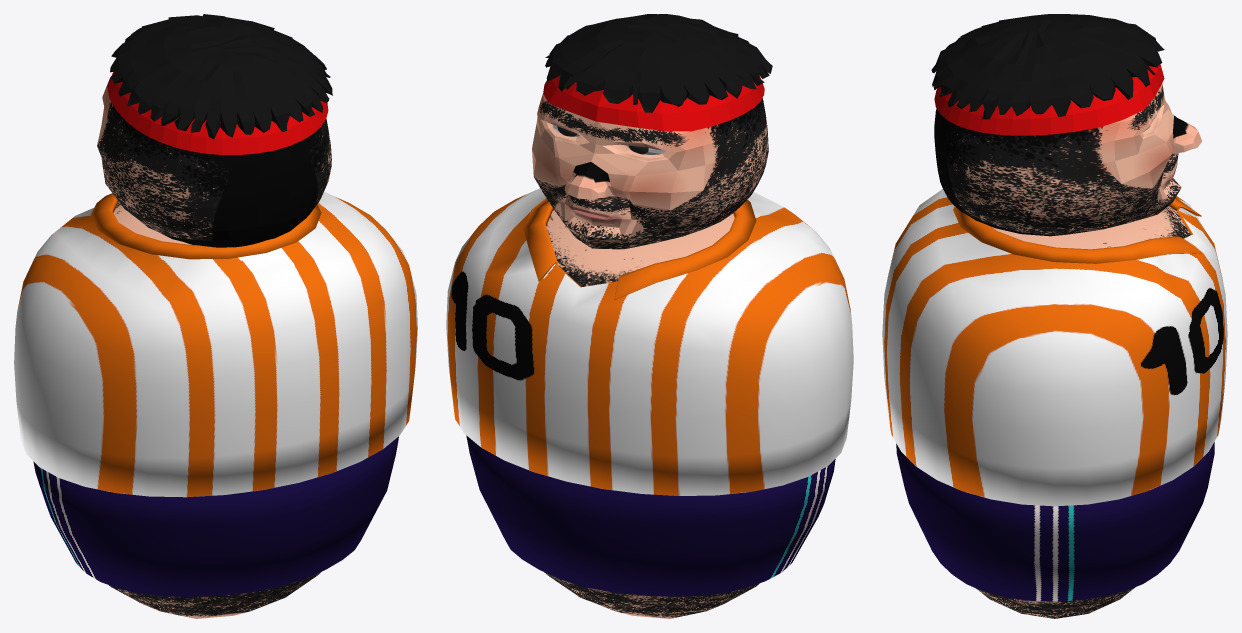
The model's file is recep1.fbx.
3 renders of one model, left to right at view 1: azimuth 30°, elevation 25°; view 2: azimuth 150°, elevation 25°; view 3: azimuth 270°, elevation 25°, orthographic.
Visible parts, largest first — view 1: tshirt, pant, head, hair, band, body; view 2: tshirt, pant, head, hair, body, band; view 3: tshirt, pant, head, hair, band, body.
Boxes of the visible parts, box(x1,y1,x2,y2) form: tshirt: box(14, 192, 417, 497); pant: box(33, 436, 398, 596); head: box(97, 76, 331, 247); hair: box(110, 14, 332, 139); band: box(107, 71, 328, 154); body: box(109, 202, 321, 618); tshirt: box(446, 188, 853, 495); pant: box(466, 435, 835, 596); head: box(532, 94, 768, 249); hair: box(545, 14, 772, 112); body: box(544, 210, 759, 618); band: box(543, 75, 764, 131); tshirt: box(882, 189, 1227, 506); pant: box(896, 442, 1214, 601); head: box(934, 83, 1202, 236); hair: box(931, 14, 1164, 119); band: box(934, 64, 1164, 135); body: box(976, 206, 1190, 618).
Bounding box in the file's own units: 125 × 101 × 186.
